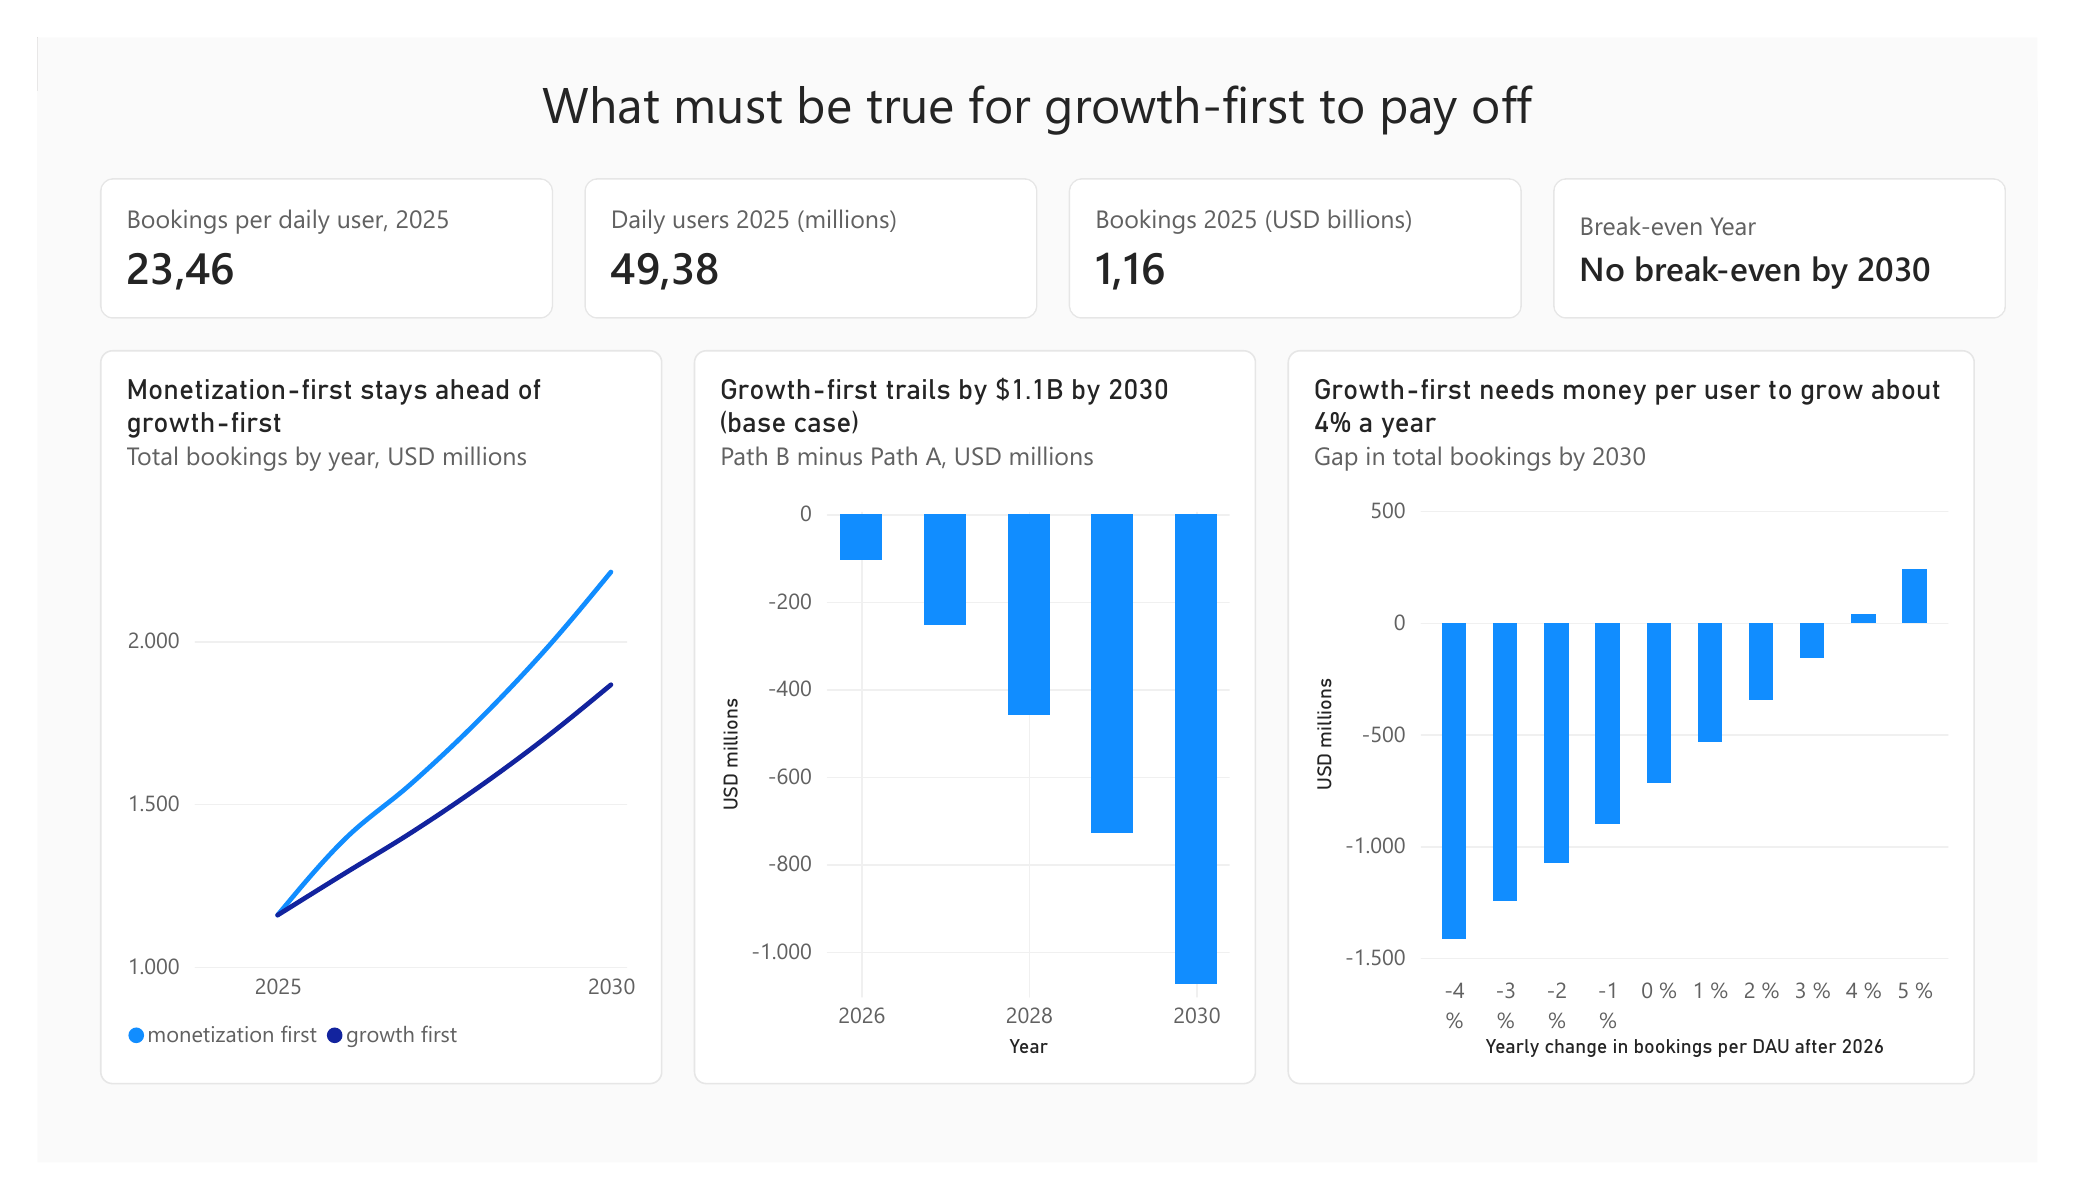

This screenshot's page, from the dashboard's own definition file:
{"tool":"powerbi","page":{"name":"break even model","canvas":[1280,720],"ordinal":2},"visuals":[{"type":"cardVisual","fields":{"Data":["duolingo_quarterly_kpis.Base Bookings per DAU 2025"]},"box":[40,90,290,90],"z":0},{"type":"cardVisual","fields":{"Data":["duolingo_quarterly_kpis.Base DAU 2025"]},"box":[350,90,290,90],"z":1000},{"type":"cardVisual","fields":{"Data":["duolingo_quarterly_kpis.Base Bookings 2025 bn"]},"box":[660,90,290,90],"z":2000},{"type":"cardVisual","fields":{"Data":["duolingo_quarterly_kpis.Break-even Year"]},"box":[970,90,290,90],"z":3000},{"type":"lineChart","title":"Monetization-first stays ahead of growth-first","fields":{"Category":["Model Years.Year"],"Y":["duolingo_quarterly_kpis.A Bookings","duolingo_quarterly_kpis.B Bookings"]},"box":[40,200,360,470],"z":4000},{"type":"clusteredColumnChart","title":"Growth-first trails by $1.1B by 2030 (base case)","fields":{"Category":["Model Years.Year"],"Y":["duolingo_quarterly_kpis.Cumulative Gap B vs A"]},"box":[420,200,360,470],"z":5000},{"type":"columnChart","title":"Growth-first needs money per user to grow about 4% a year","fields":{"Category":["Scenario BPD.B BPD later"],"Y":["duolingo_quarterly_kpis.Scenario Gap 2030"]},"box":[800,200,440,470],"z":6000},{"type":"textbox","box":[40,20,1200,50],"z":7000}]}

Visuals, with their boxes on the page's 1280x720 design canvas (x1, y1, x2, y2). These are canvas units, not pixel positions in the 2075x1200 screenshot, which may show the page scaled, cropped or inside an application window:
cardVisual - duolingo_quarterly_kpis.Base Bookings per DAU 2025: box(40, 90, 330, 180)
cardVisual - duolingo_quarterly_kpis.Base DAU 2025: box(350, 90, 640, 180)
cardVisual - duolingo_quarterly_kpis.Base Bookings 2025 bn: box(660, 90, 950, 180)
cardVisual - duolingo_quarterly_kpis.Break-even Year: box(970, 90, 1260, 180)
"Monetization-first stays ahead of growth-first" lineChart: box(40, 200, 400, 670)
"Growth-first trails by $1.1B by 2030 (base case)" clusteredColumnChart: box(420, 200, 780, 670)
"Growth-first needs money per user to grow about 4% a year" columnChart: box(800, 200, 1240, 670)
textbox: box(40, 20, 1240, 70)
